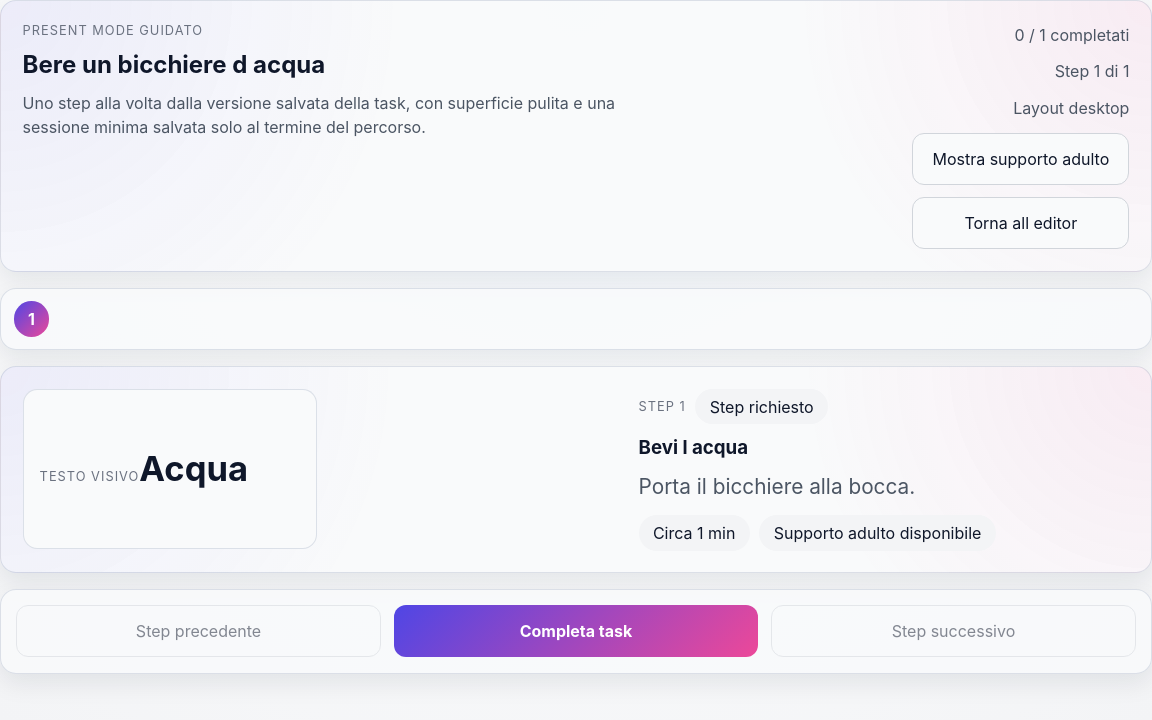
Test case: TaskGuidedPresentPageComponent › keeps the completed state visible when minimal session persistence fails
Click the button "Completa task" at (576,631), box [394,605,758,657]
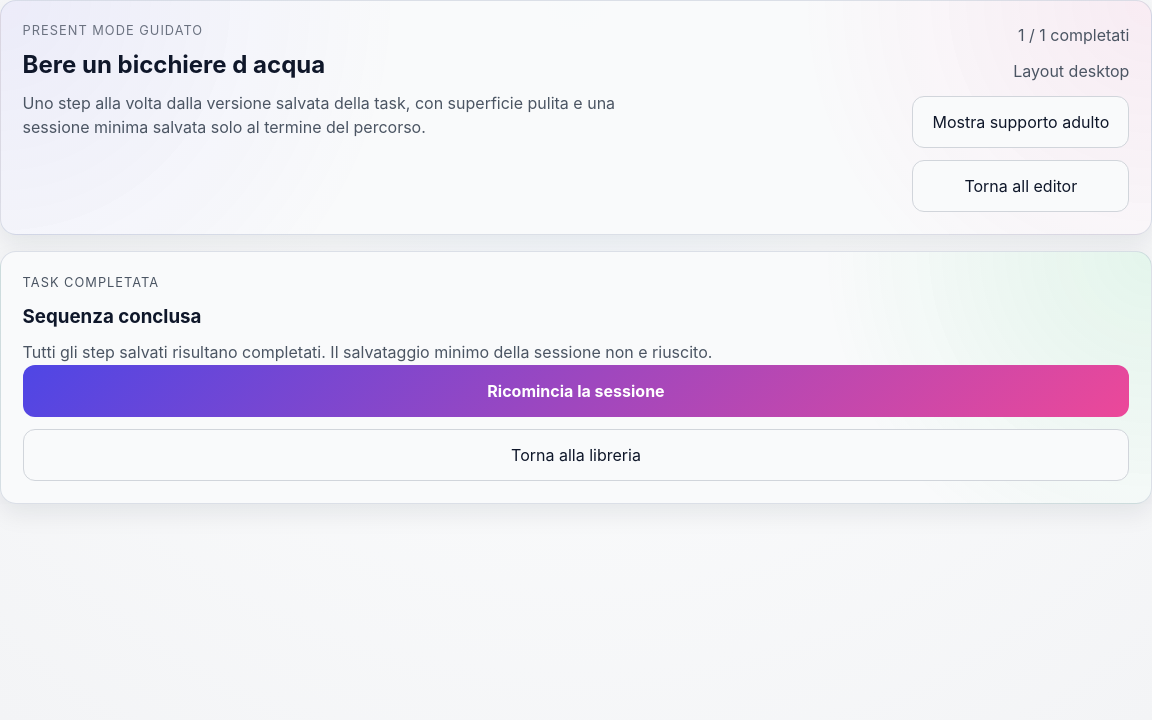
Check: the text "Sequenza conclusa" is shown, box [23,305,201,328]
Check: the text "Il salvataggio minimo della sessione non e riuscito." is shown, box [23,342,712,362]
